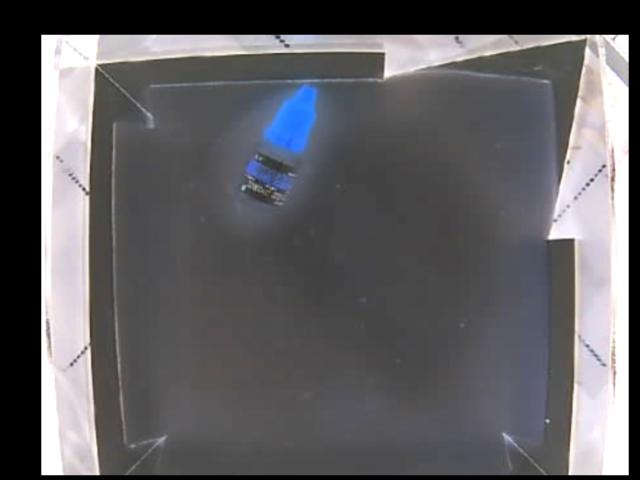Bottle: (240, 84, 318, 213)
